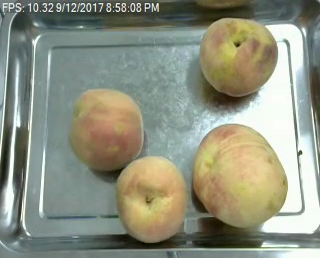Peach: (192, 122, 288, 229), (68, 87, 144, 172), (199, 16, 278, 97), (115, 155, 186, 244)
